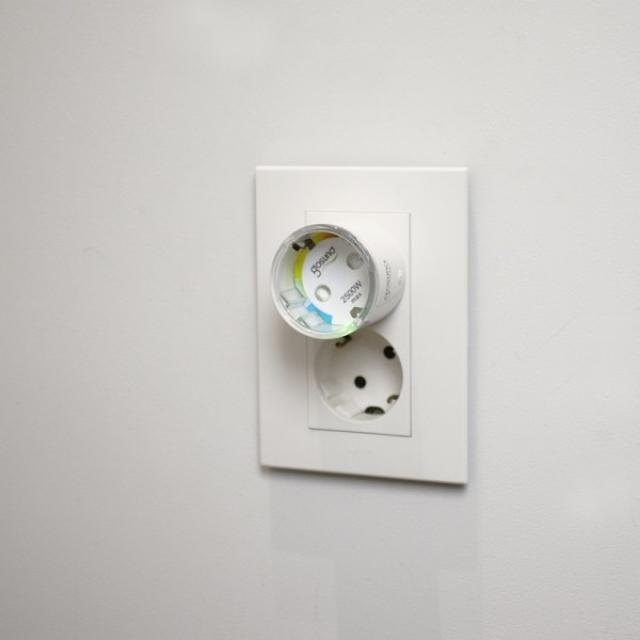typeb: (228, 165, 546, 512)
